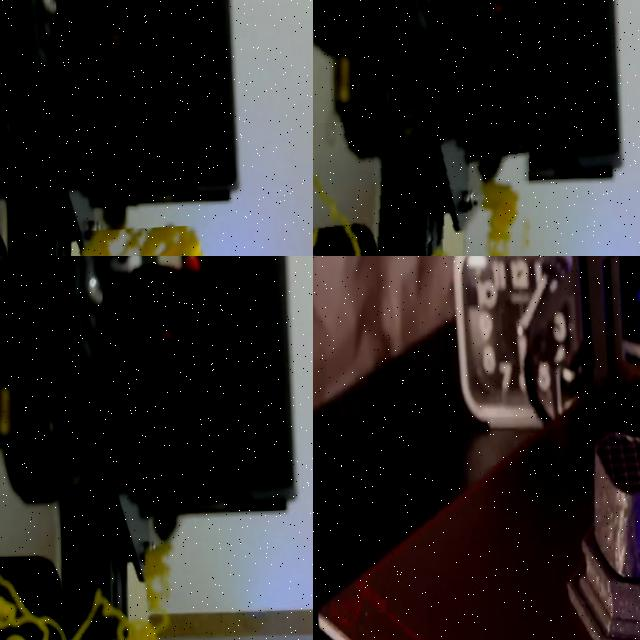spaghetti: (0, 571, 166, 640), (83, 226, 202, 256), (145, 546, 167, 612)
